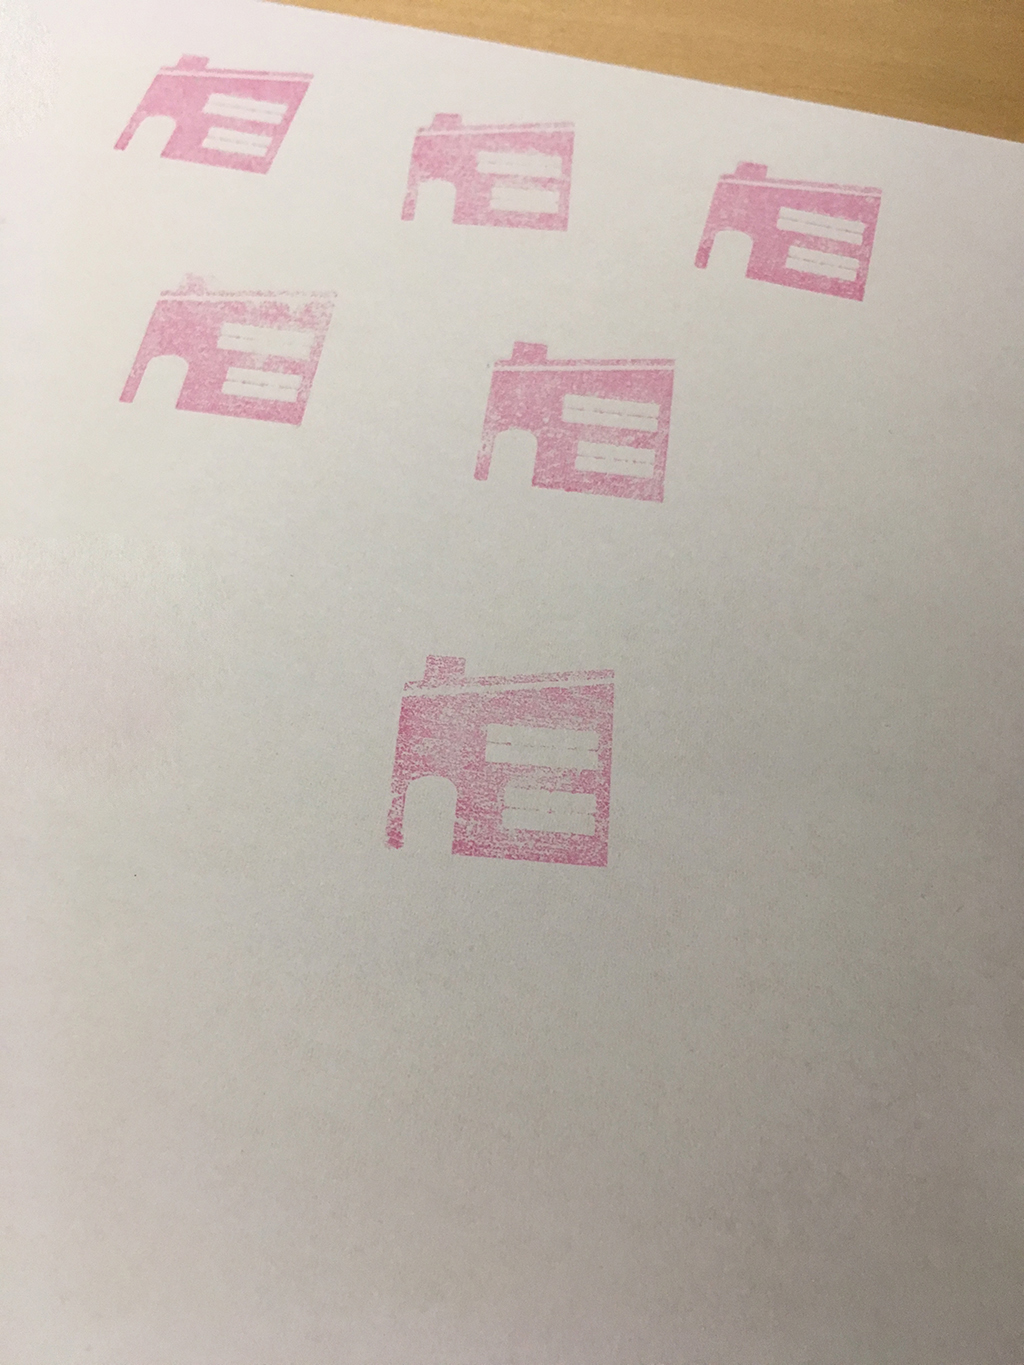house: (359, 627, 639, 902), (102, 246, 355, 456), (455, 333, 701, 534), (675, 129, 893, 315), (105, 33, 328, 194), (383, 98, 586, 251)
